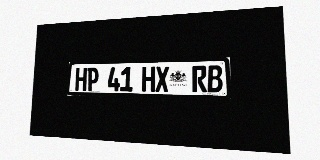1: (120, 67, 133, 91)
4: (107, 67, 120, 91)
B: (207, 65, 223, 92)
H: (142, 66, 155, 92), (75, 68, 87, 91)
P: (87, 67, 99, 91)
R: (192, 65, 207, 92)
X: (155, 66, 169, 92)
